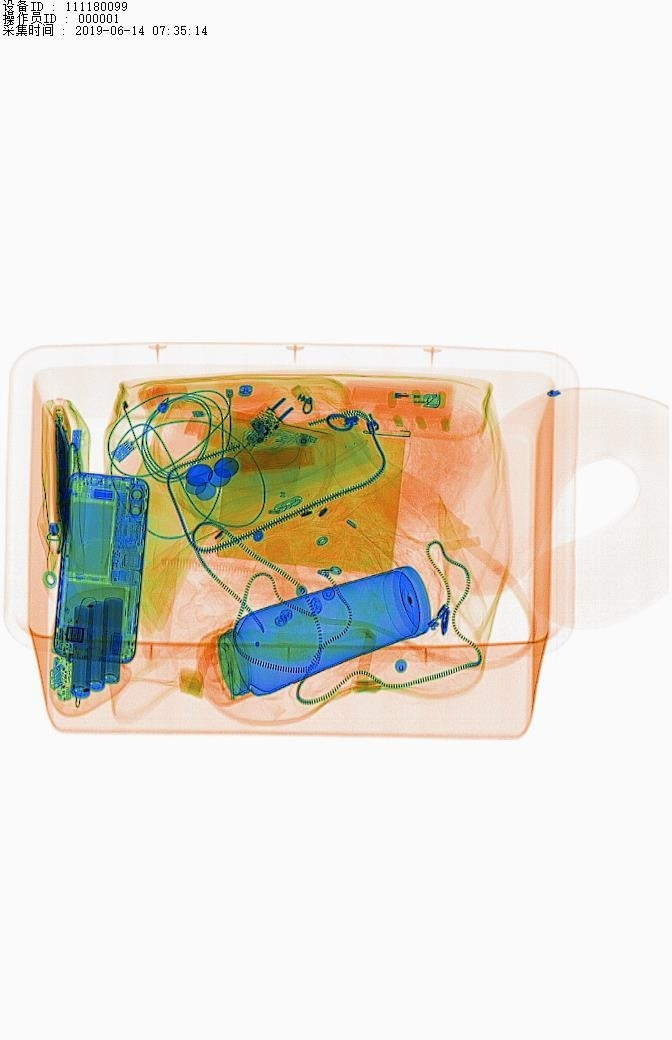NonmetallicFire: (326, 372, 468, 423)
